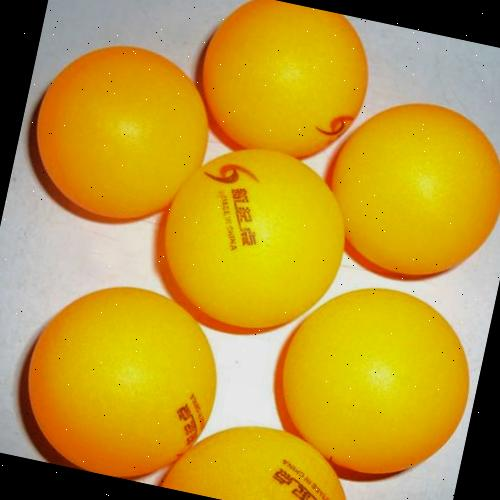ball: (0, 258, 238, 493), (256, 265, 486, 497), (143, 123, 366, 354), (12, 23, 229, 244), (308, 81, 500, 295), (174, 0, 389, 175)
